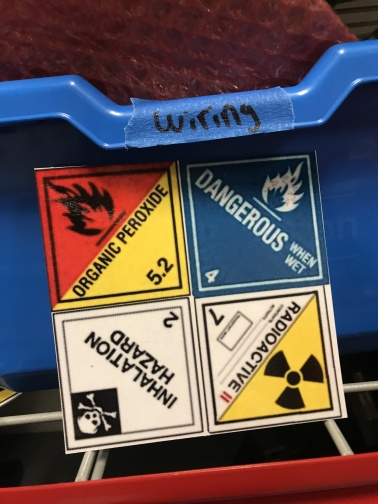DangerousWhenWet: (179, 151, 330, 299)
InhalationHazard: (51, 297, 207, 455)
OrganicPeroxide: (35, 162, 192, 310)
Radioactive: (195, 286, 343, 432)
